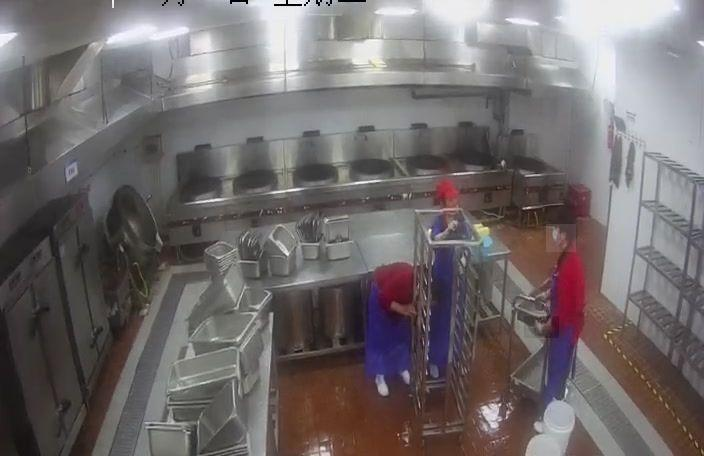apron: (524, 316, 560, 338), (530, 288, 558, 308)
mask: (546, 224, 576, 252)
no_apron: (392, 302, 420, 327)
